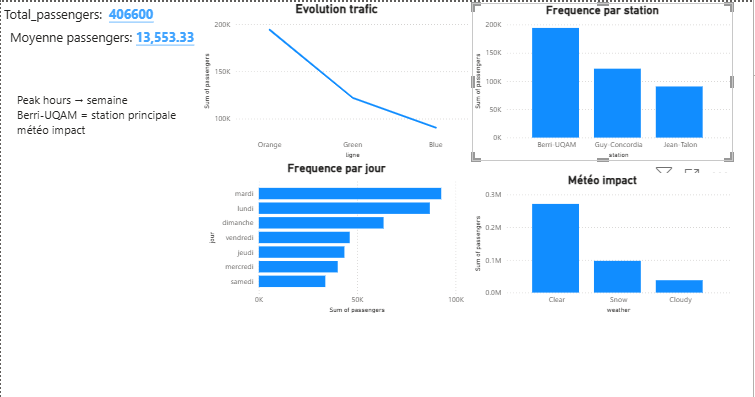

The page's visual inventory and layout, read from the dashboard file:
{"tool":"powerbi","page":{"name":"Page 1","canvas":[1280,720],"ordinal":0},"visuals":[{"type":"textbox","box":[0,0,376.3,72.2],"z":0},{"type":"textbox","box":[10,38.3,435,75],"z":1000},{"type":"lineChart","title":"Evolution trafic","fields":{"Category":["db_stm table_stm.ligne"],"Y":["Sum(db_stm table_stm.passengers)"]},"box":[333.3,0,451.7,265],"z":2000},{"type":"clusteredColumnChart","title":"Frequence par station","fields":{"Category":["db_stm table_stm.station"],"Y":["Sum(db_stm table_stm.passengers)"]},"box":[785,1.7,435,263.3],"z":2001},{"type":"clusteredBarChart","title":"Frequence par jour","fields":{"Category":["db_stm table_stm.jour"],"Y":["Sum(db_stm table_stm.passengers)"]},"box":[341.7,265,435,258.3],"z":2002},{"type":"clusteredColumnChart","title":"Météo impact","fields":{"Category":["db_stm table_stm.weather"],"Y":["Sum(db_stm table_stm.passengers)"]},"box":[785,285,435,238.3],"z":2003},{"type":"textbox","box":[21.7,145,291.7,106.7],"z":2004}]}

Visuals, with their boxes on the page's 1280x720 design canvas (x1, y1, x2, y2). These are canvas units, not pixel positions in the 755x397 screenshot, which may show the page scaled, cropped or inside an application window:
textbox: x1=0, y1=0, x2=376, y2=72
textbox: x1=10, y1=38, x2=445, y2=113
"Evolution trafic" lineChart: x1=333, y1=0, x2=785, y2=265
"Frequence par station" clusteredColumnChart: x1=785, y1=2, x2=1220, y2=265
"Frequence par jour" clusteredBarChart: x1=342, y1=265, x2=777, y2=523
"Météo impact" clusteredColumnChart: x1=785, y1=285, x2=1220, y2=523
textbox: x1=22, y1=145, x2=313, y2=252
